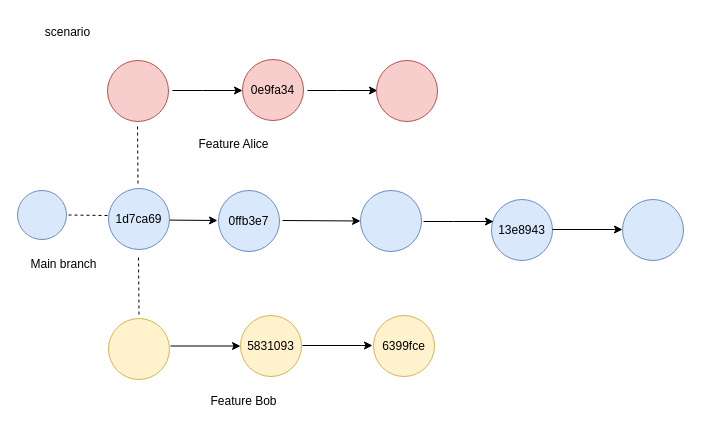
The diagram is 701 pixels wide and 433 high, and some of its shapes have lost their labels. The centre of each missing label's shape, as x and y in pixels:
2a2cf8d: point 407,91
93be5d2: point 391,221
b26abd5: point 653,229
